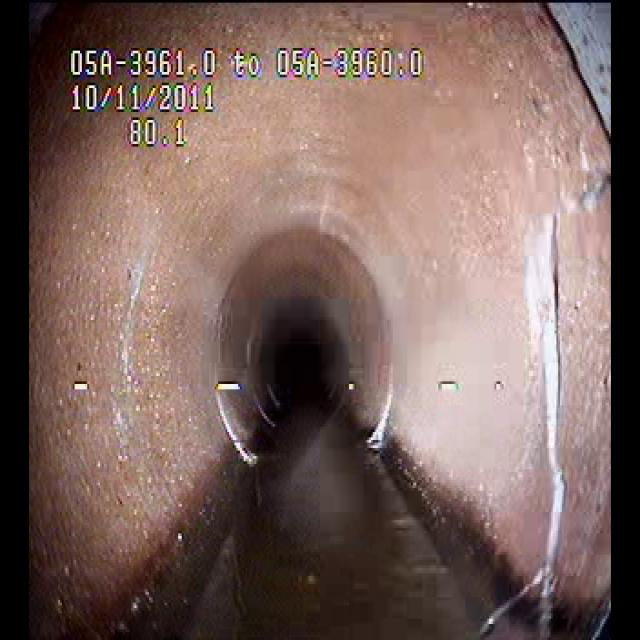Fracture: (500, 202, 591, 597)
